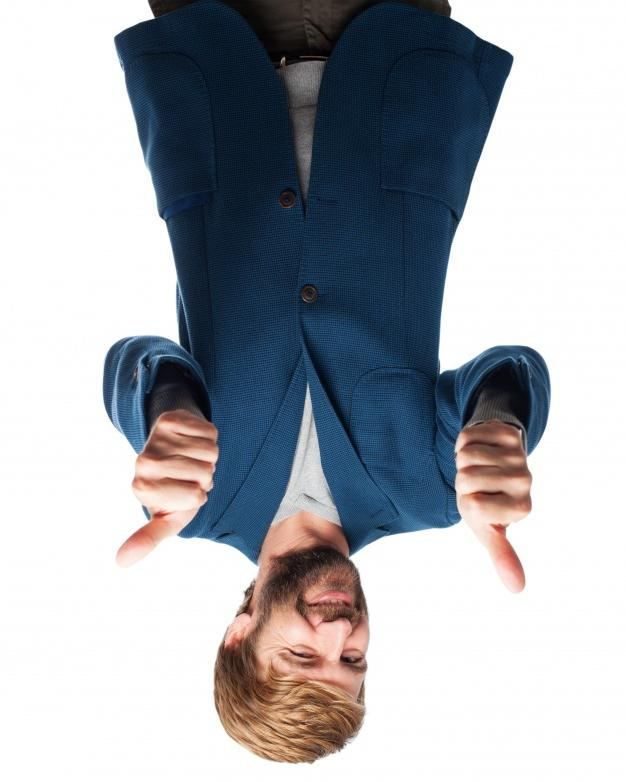thumbsdown: (116, 413, 220, 568), (454, 424, 532, 593)
